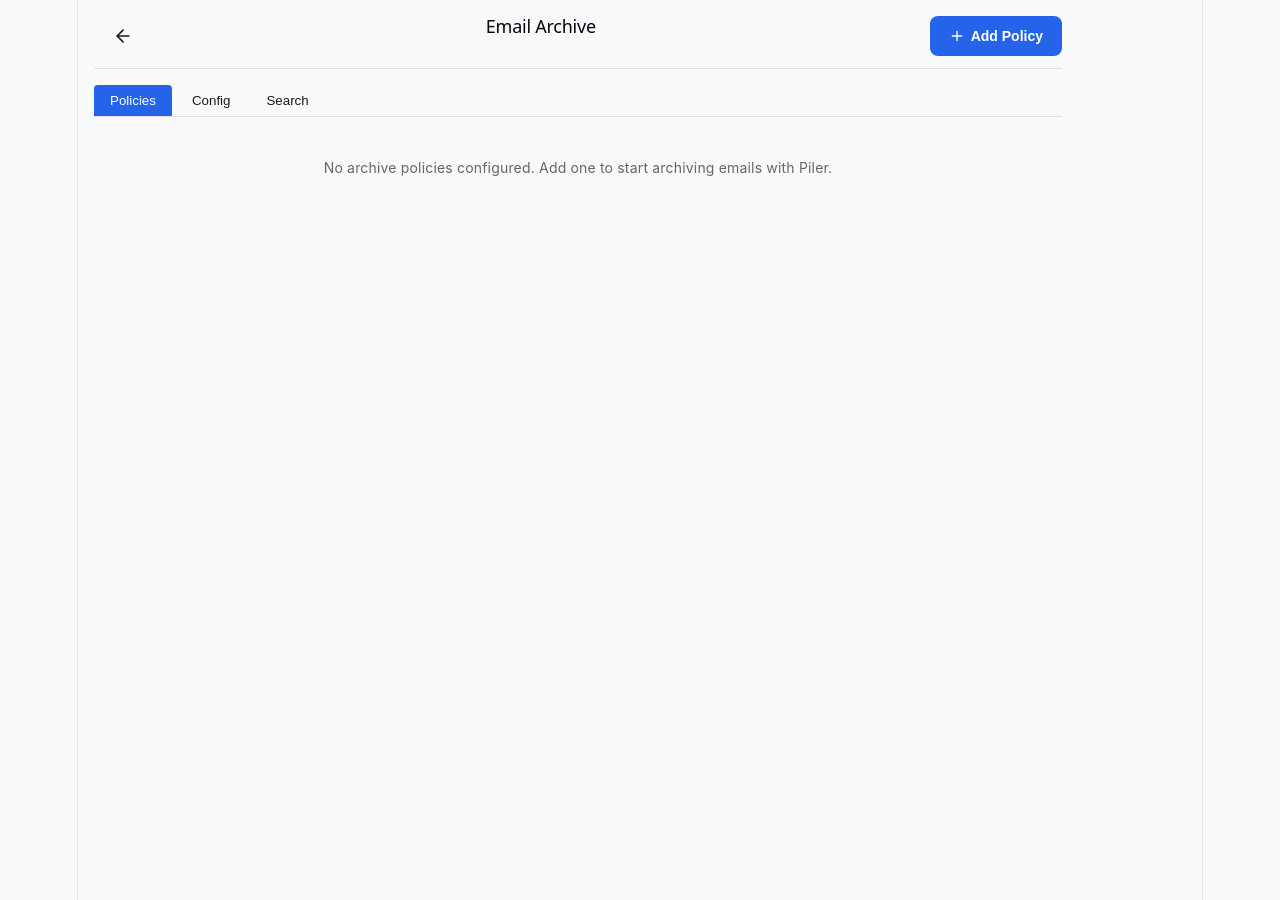
Test: ArchiveManager › switches to config tab and shows config form
expect the heading "Email Archive" is shown: met, box left=486, top=14, right=596, bottom=38
Click the button "Config" at (211, 100), box left=176, top=85, right=246, bottom=116
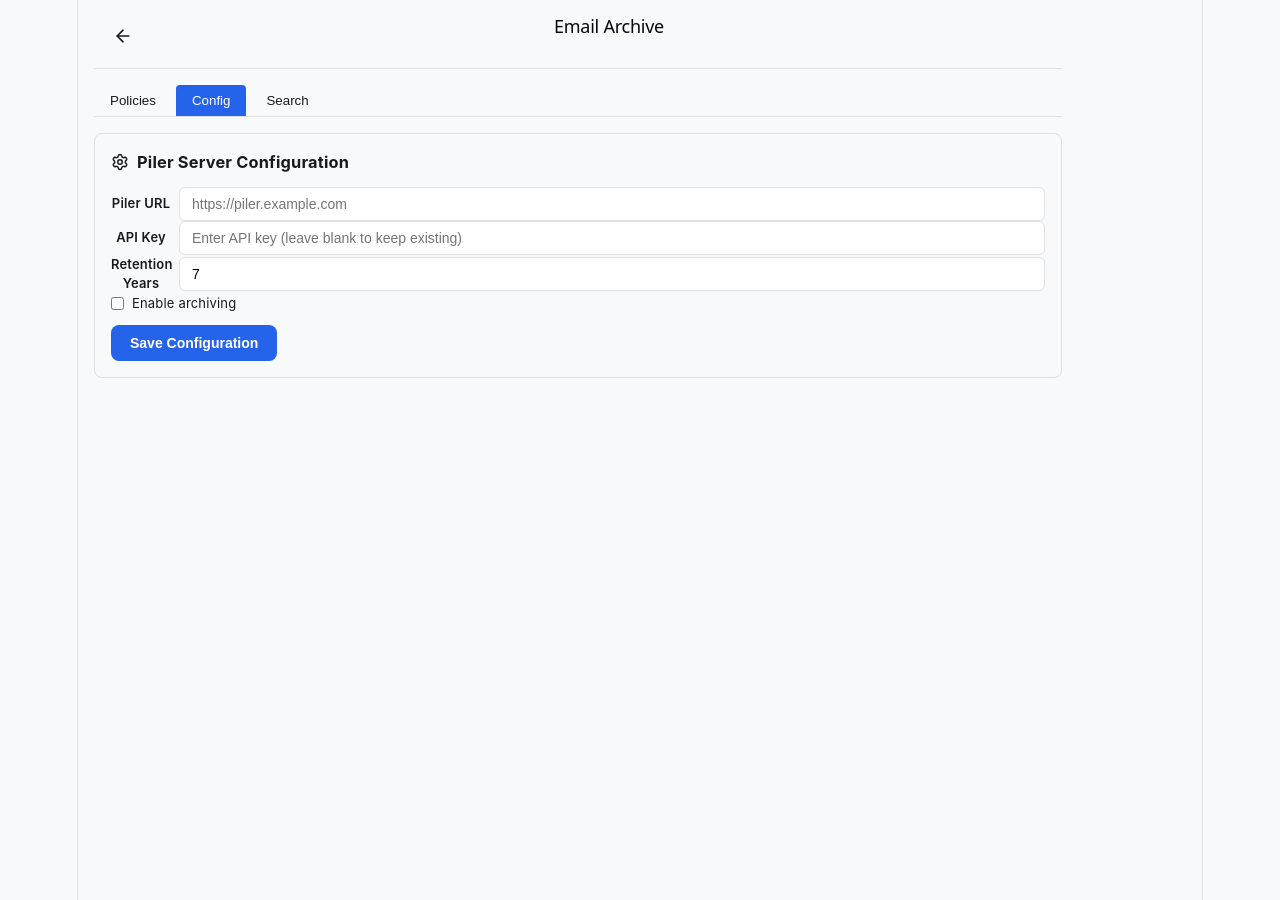
expect the element with test id "archive-config-panel" is shown: met, box left=94, top=133, right=1062, bottom=378
expect the field with placeholder "https://piler.example.com" is shown: met, box left=179, top=187, right=1045, bottom=221
expect the button "Save Configuration" is shown: met, box left=111, top=325, right=277, bottom=361
